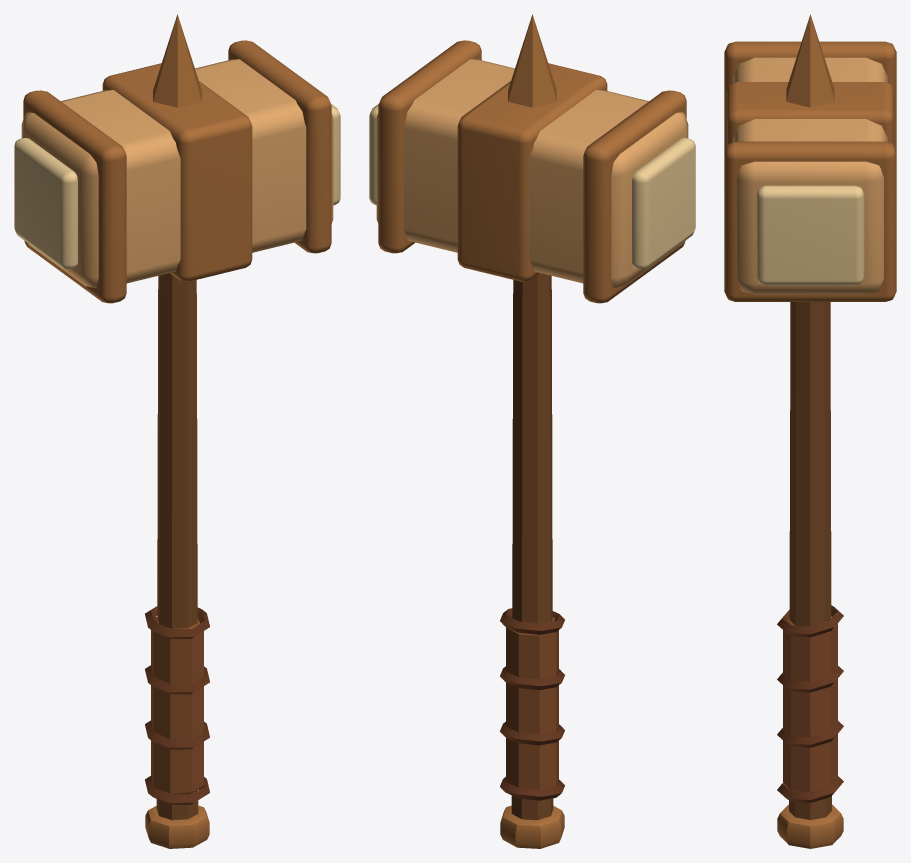
The model's file is WoodWarHammer.fbx.
3 views of the same model, side by side, from view 1: azimuth 30°, elevation 25°; view 2: azimuth 150°, elevation 25°; view 3: azimuth 270°, elevation 25° (orthographic).
Parts seen in each view (by area): view 1: WoodWarHammer; view 2: WoodWarHammer; view 3: WoodWarHammer.
Part boxes in pixels (x1,y1,x2,y2): WoodWarHammer: [14, 14, 340, 848]; WoodWarHammer: [369, 14, 695, 848]; WoodWarHammer: [724, 14, 896, 848].
Size of the model in its own units: 1.5 by 4.23 by 0.8.
Materials: 1 (1 with a texture image).
